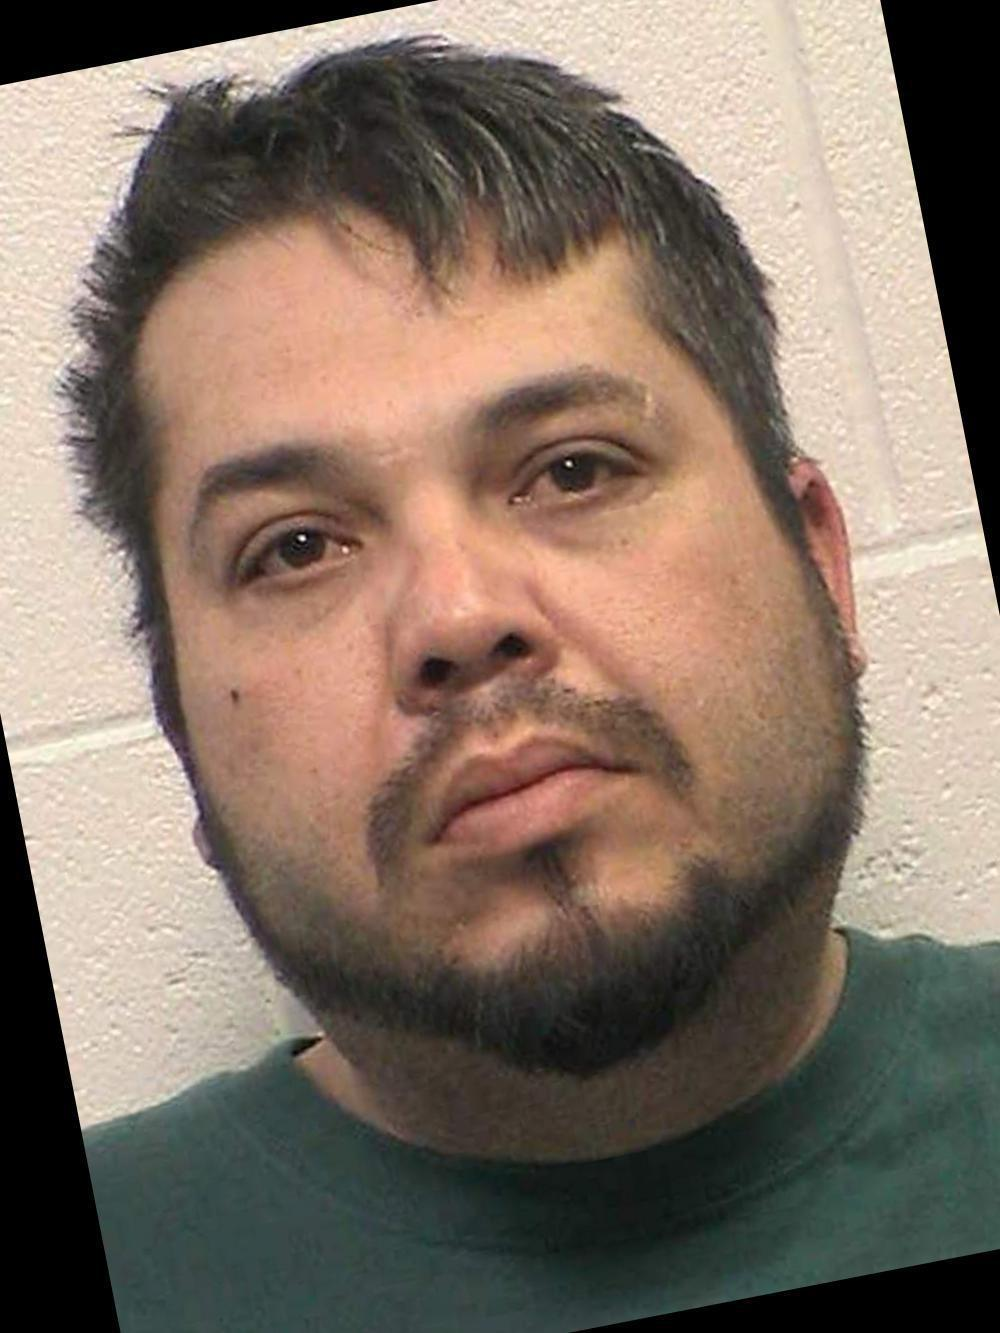Drunk: (145, 251, 816, 1001)
